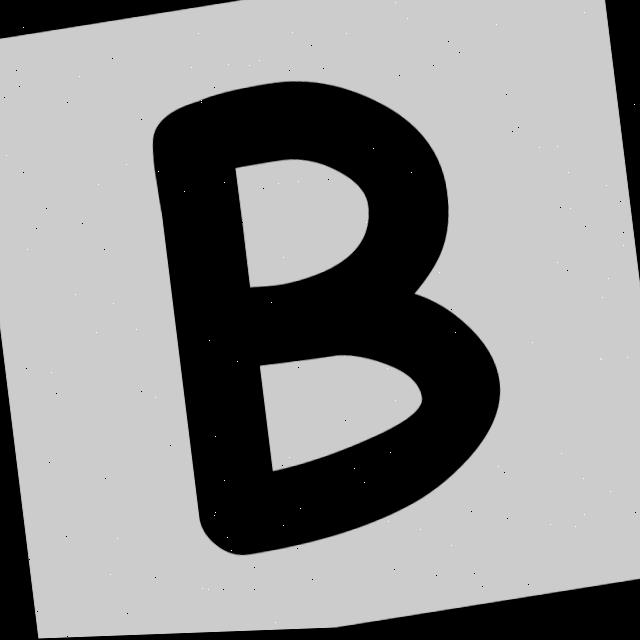B: (153, 84, 499, 556)
